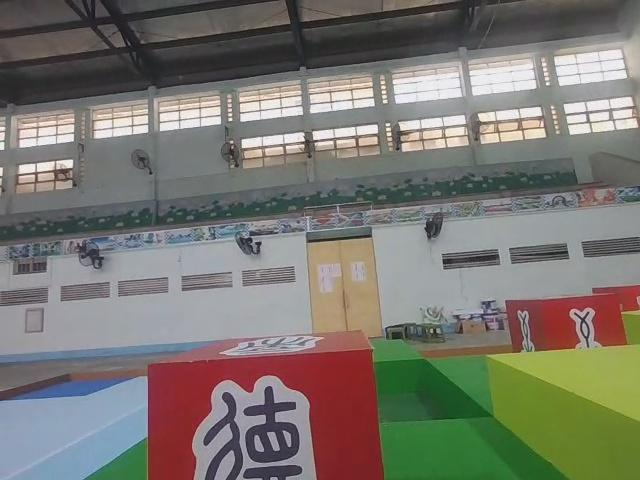R2 Fake: (148, 330, 387, 480)
R2 Real: (503, 289, 631, 358)
